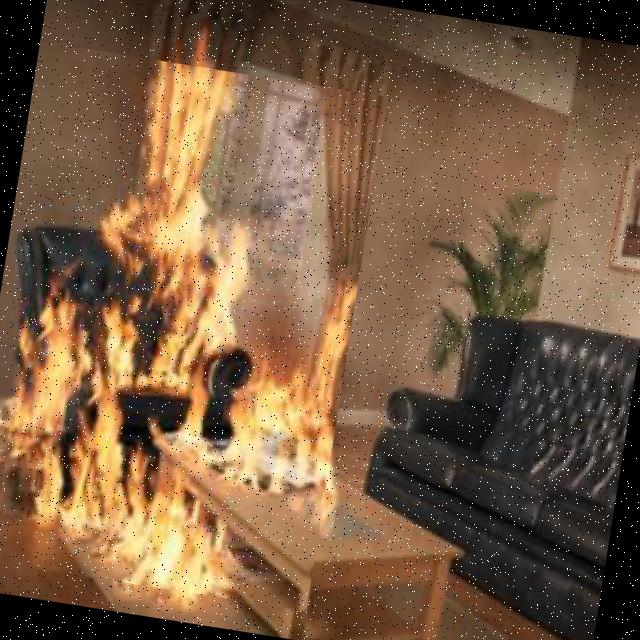fire: (0, 41, 387, 611)
